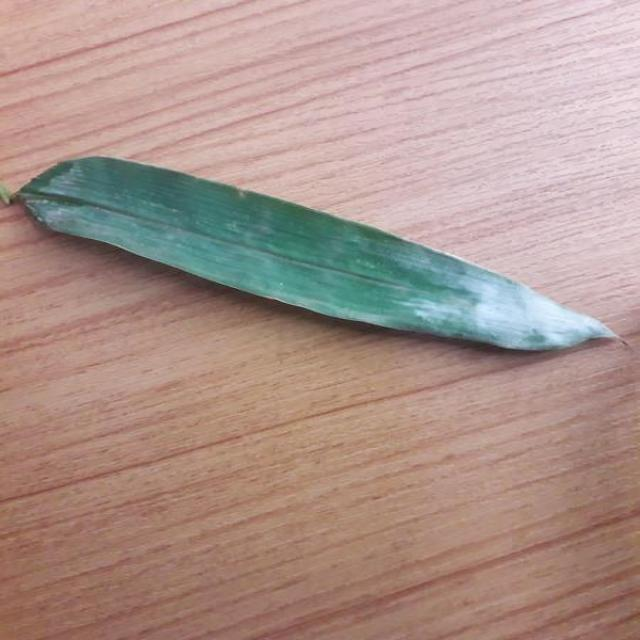Bamboo: (3, 156, 615, 349)
